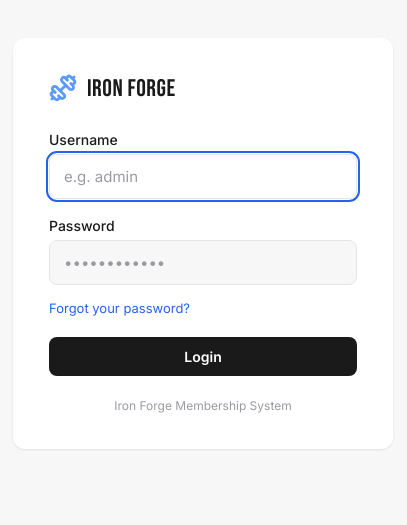
Test: LoginPage › distinguishes an unreachable backend from a wrong password
In the field labelled "Username": (203, 176) [49,154,357,198], type "admin"
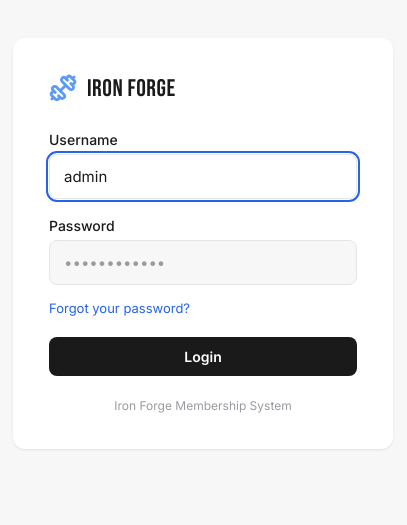
In the password field labelled "Password": (203, 262) [49,240,357,284], type "admin123"
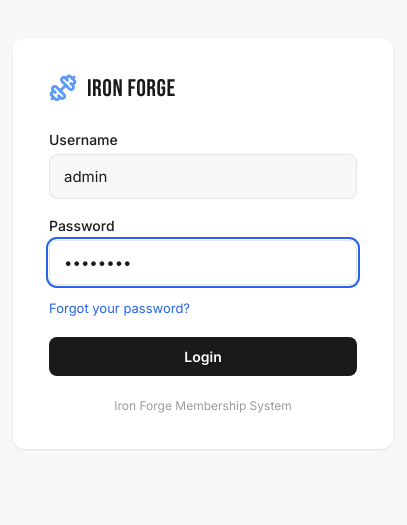
Click the button "Login": (203, 356) [49,336,357,376]
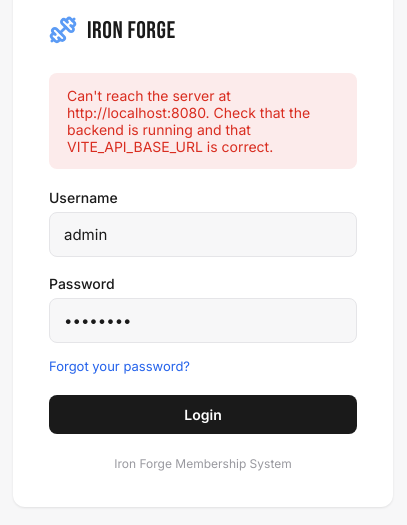
Result: the text "Can't reach the server" is shown at [67,86,310,154]
